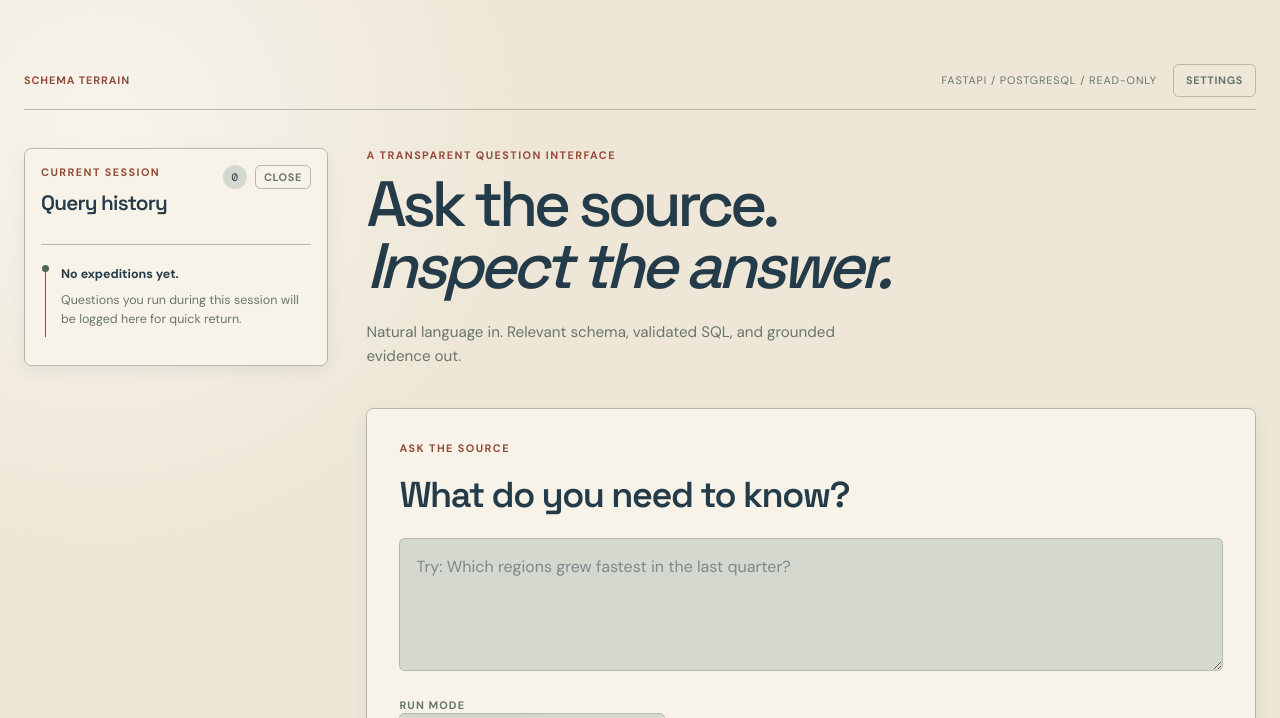
Test: Milestone 10 application › renders normalized result values as text and communicates truncation
In the text box named "natural-language question": (811, 604) [399,538,1223,671], type "Which regions grew fastest?"
(page scrolled)
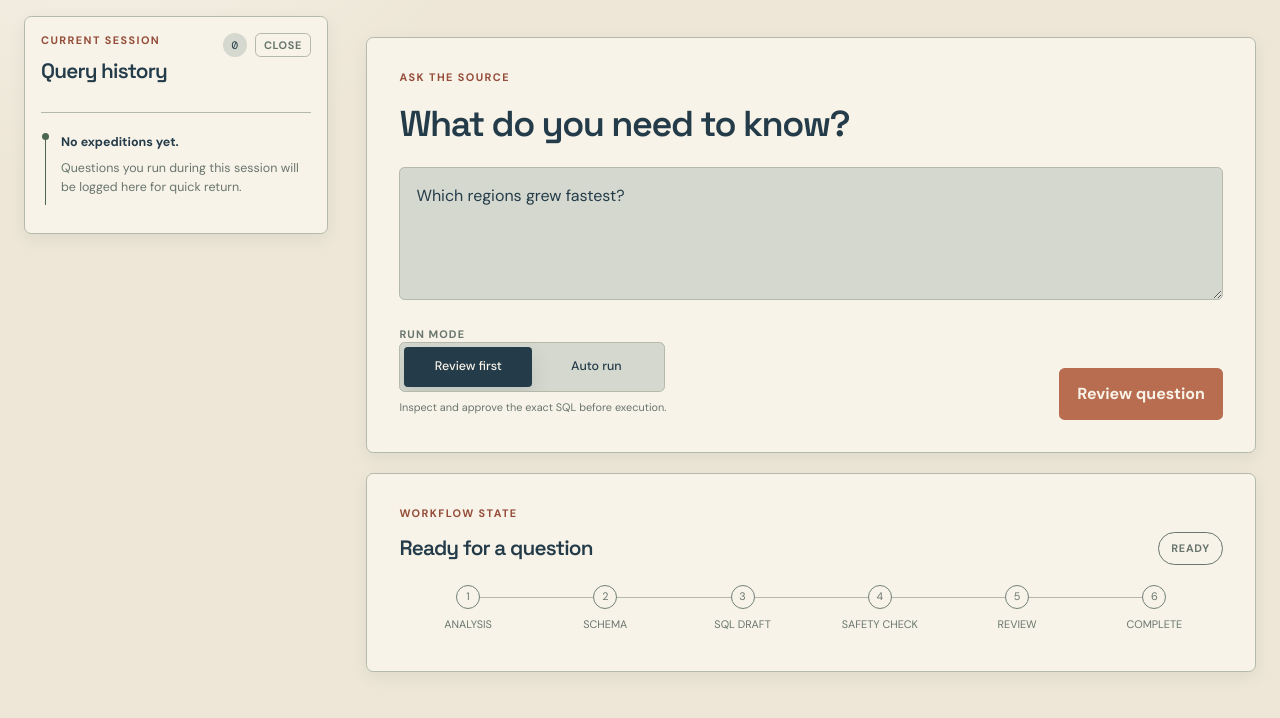
Click the button "Review question": (1141, 394) [1059,368,1223,420]
(page scrolled)
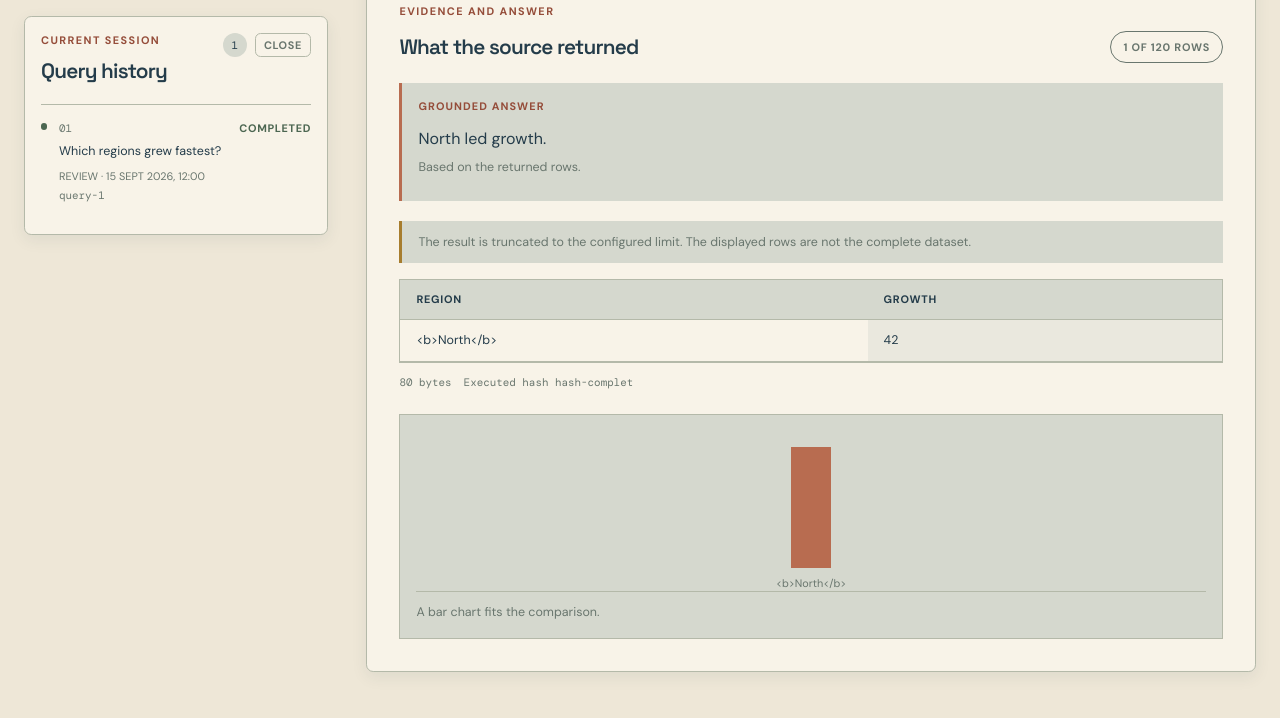
Now the cell "<b>North</b>" is shown, box [400,320,868,362]
Now the text "not the complete dataset" is shown, box [418,234,971,250]
Now the picture named "chart of growth by region" is shown, box [399,414,1223,639]
